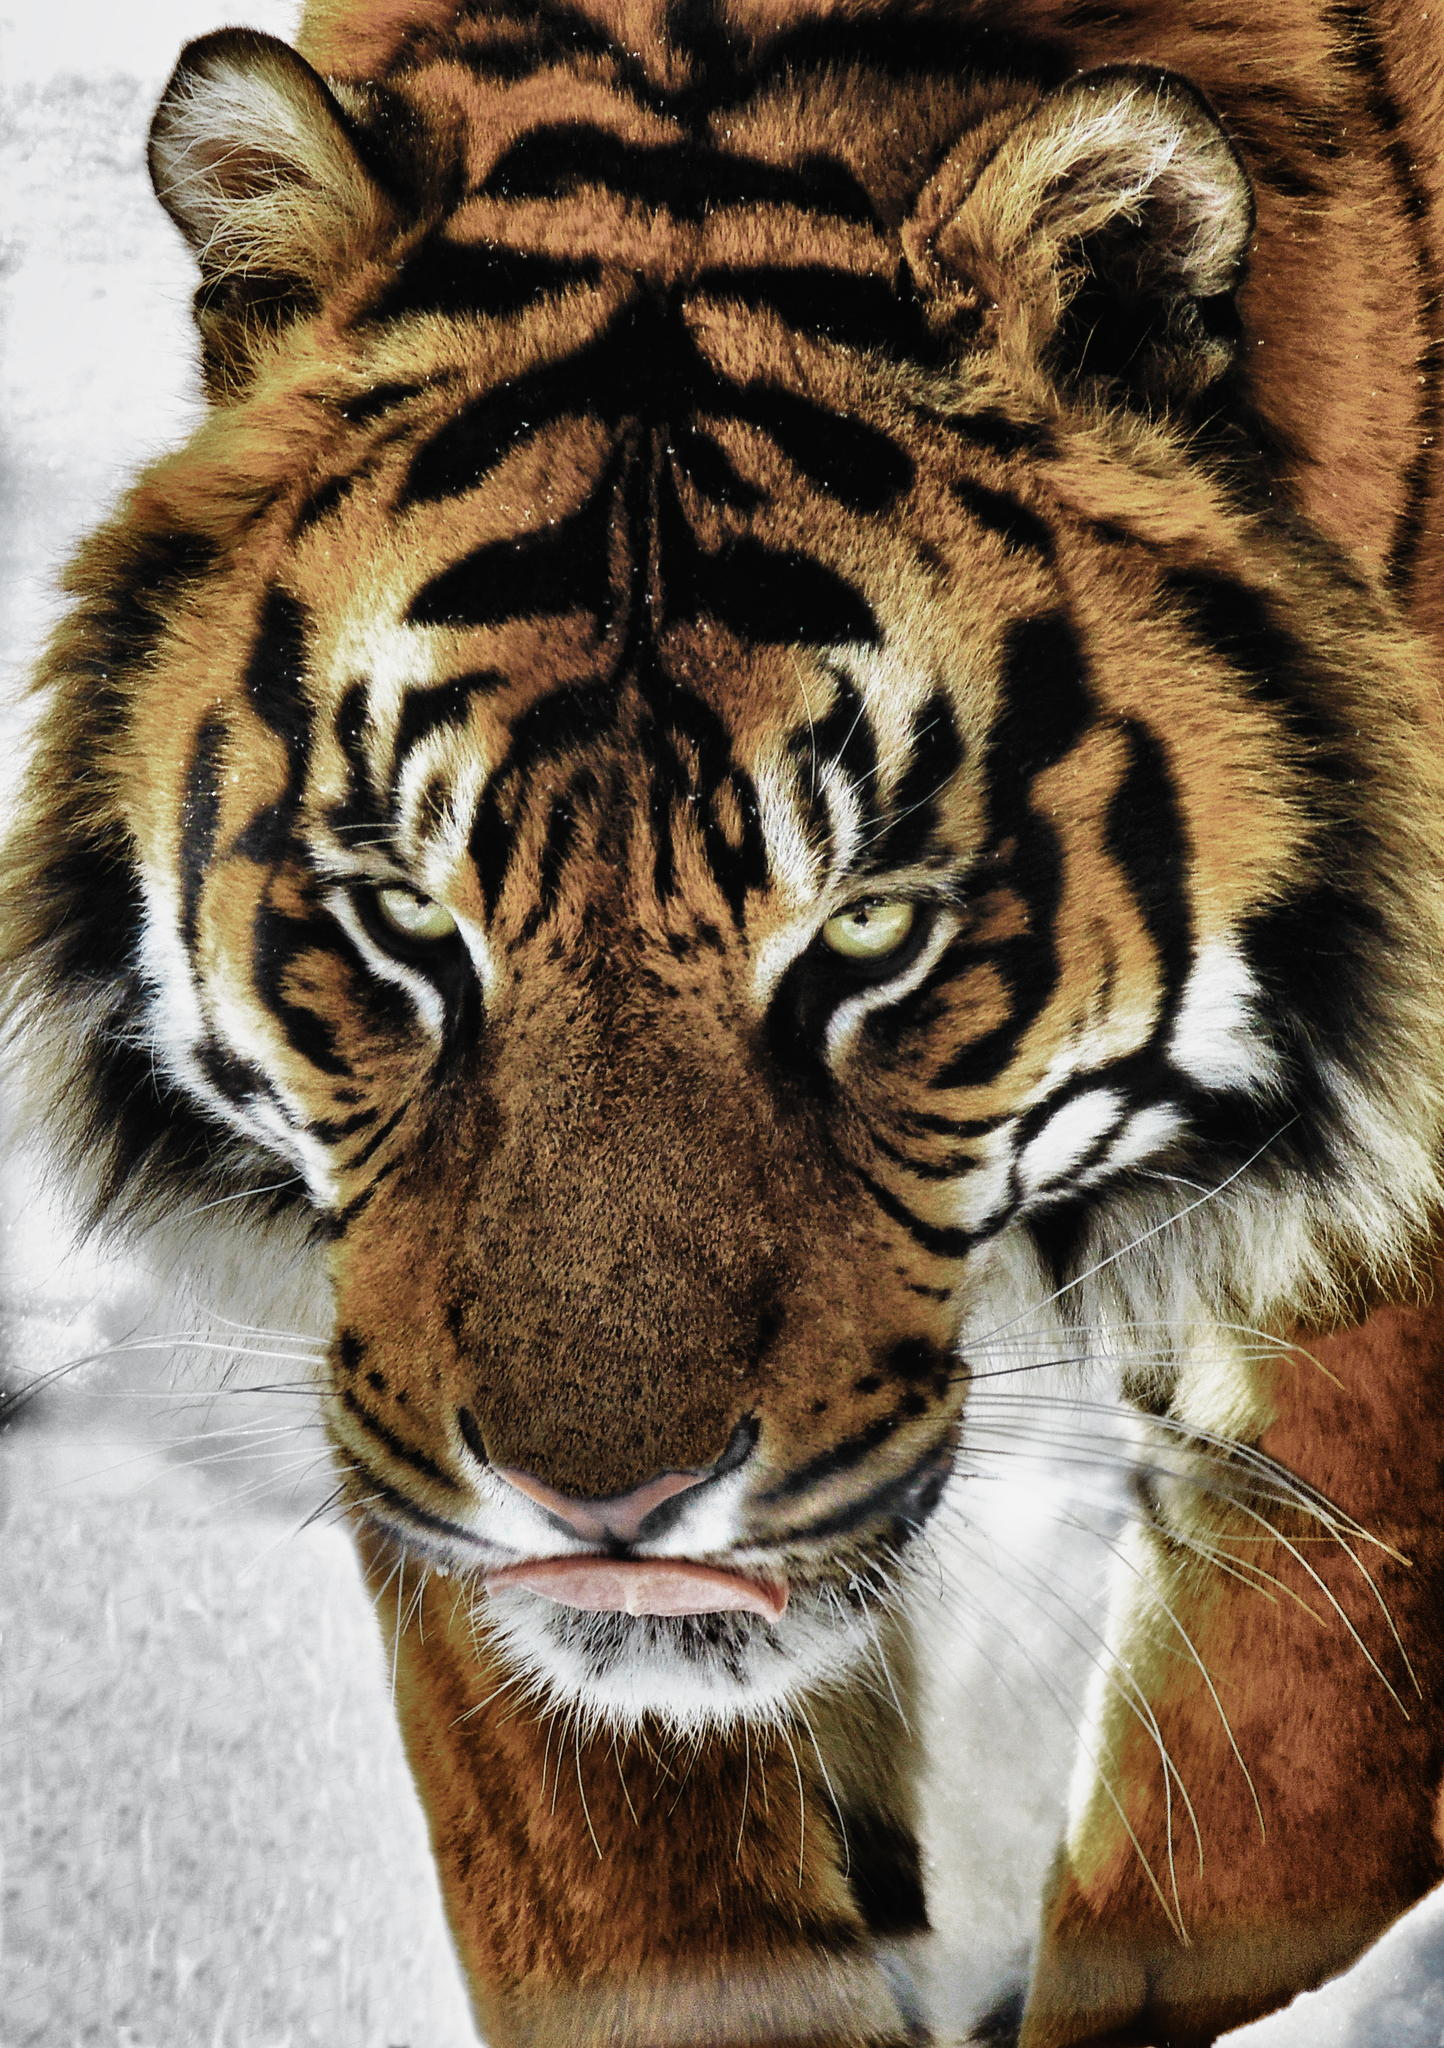tiger: (172, 75, 1361, 1750)
